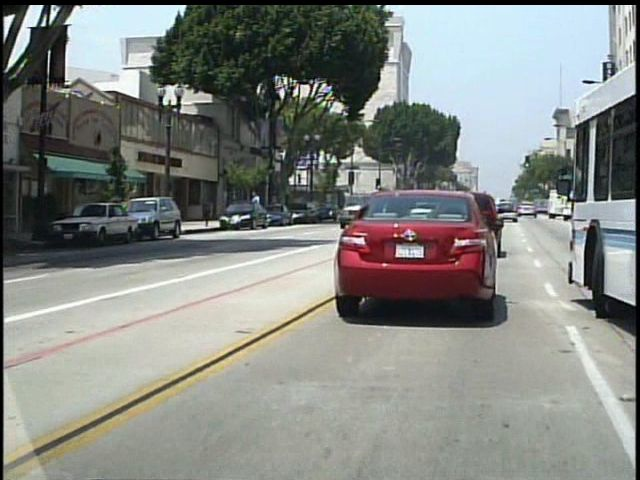person: (253, 190, 266, 224)
